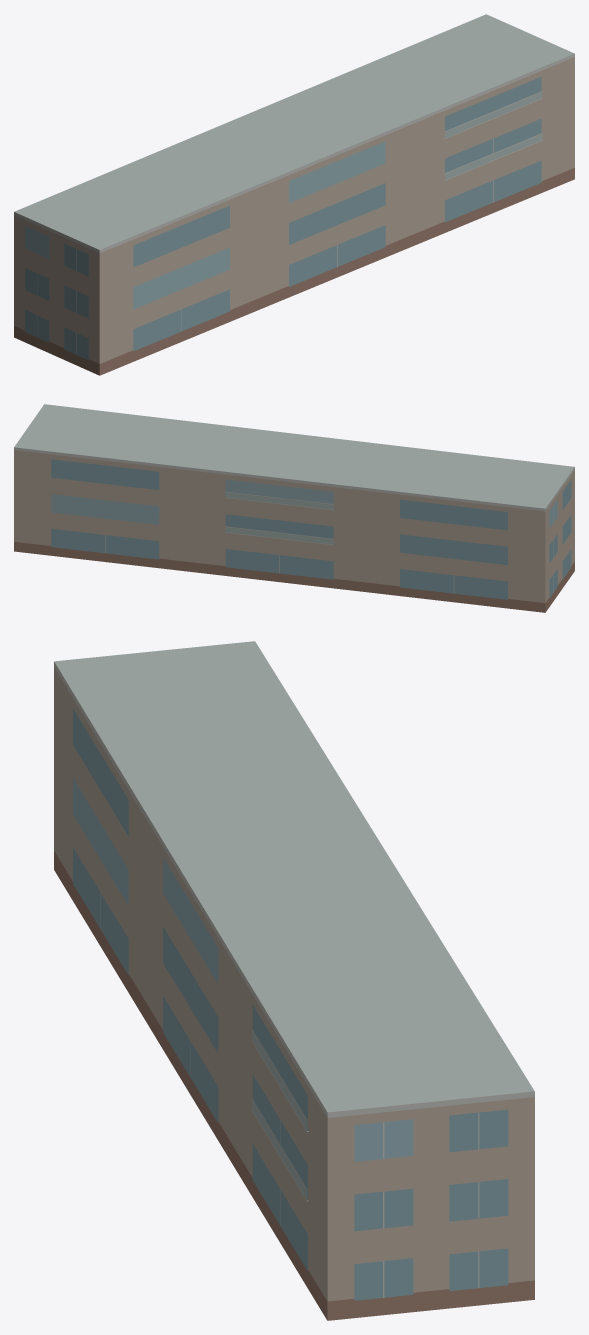
The model's file is survey-upis-32766170.glb.
The picture shows the model from 3 angles, top to bottom: view 1: azimuth 30°, elevation 25°; view 2: azimuth 150°, elevation 25°; view 3: azimuth 270°, elevation 25°; orthographic projection. The views are drawn at different scales.
Visible parts, largest first — view 1: survey-upis-32766170.tmp; view 2: survey-upis-32766170.tmp; view 3: survey-upis-32766170.tmp.
Boxes of the visible parts, bbox=[...] form: survey-upis-32766170.tmp: bbox=[14, 14, 574, 375]; survey-upis-32766170.tmp: bbox=[14, 404, 574, 612]; survey-upis-32766170.tmp: bbox=[54, 641, 534, 1320].
Bounding box in the file's own units: 44.41 × 9.15 × 19.15.
